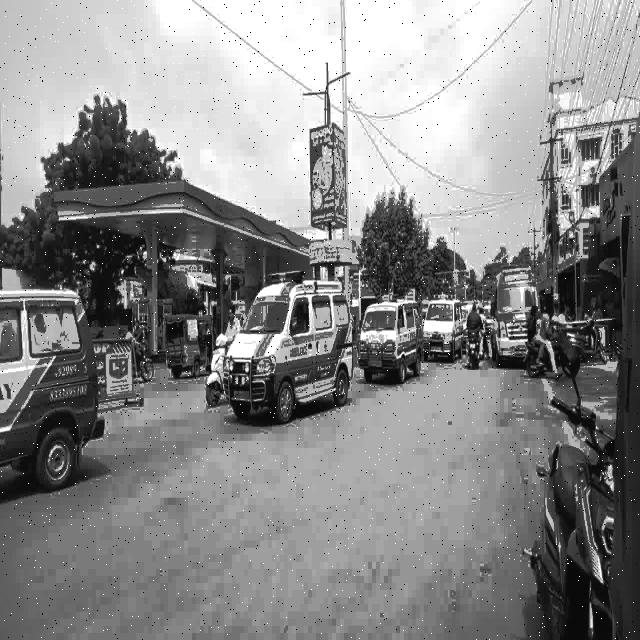Ambulance: (0, 290, 99, 479), (226, 278, 354, 408), (361, 300, 426, 382), (496, 268, 534, 364)
